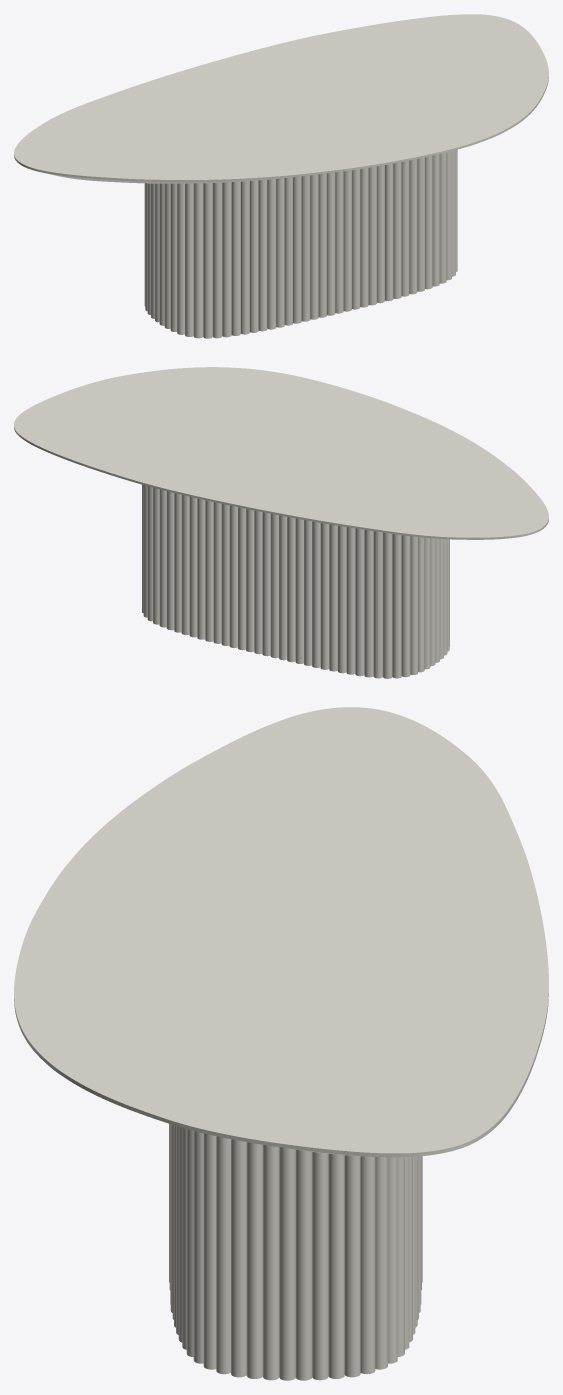
File: pale_pebbletop_facet_newtable.glb
3 views of the same model, one above another, from view 1: azimuth 30°, elevation 25°; view 2: azimuth 150°, elevation 25°; view 3: azimuth 270°, elevation 25° (orthographic). The views are drawn at different scales.
Parts seen in each view (by area): view 1: facet_pebbletop, newtable; view 2: facet_pebbletop, newtable; view 3: facet_pebbletop, newtable.
Part boxes in pixels (left/top/right/bottom): facet_pebbletop: left=14, top=14, right=548, bottom=183; newtable: left=144, top=149, right=457, bottom=338; facet_pebbletop: left=14, top=367, right=548, bottom=539; newtable: left=142, top=484, right=449, bottom=678; facet_pebbletop: left=14, top=707, right=548, bottom=1157; newtable: left=169, top=1124, right=422, bottom=1380.
Size of the model in its own units: 7.5 by 2.5 by 3.8.
2 materials, 2 textured.
